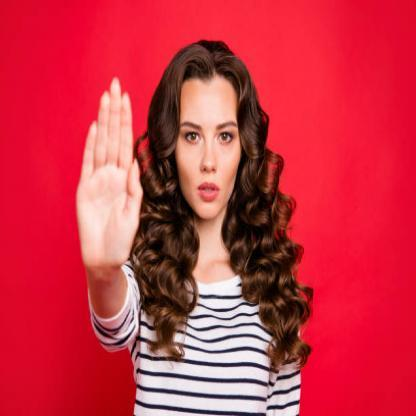stop: (73, 74, 145, 278)
